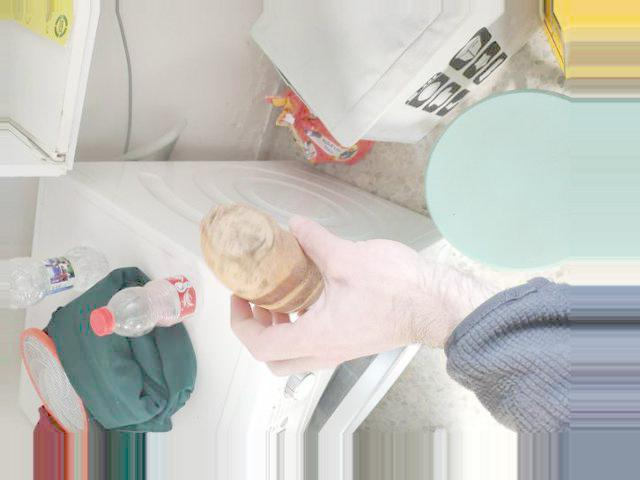sweet_potato: (195, 208, 323, 310)
